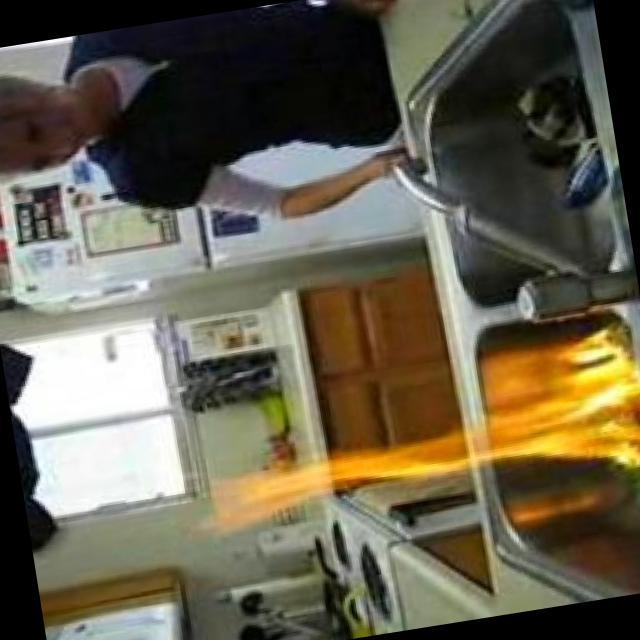Fire: (172, 328, 640, 544)
